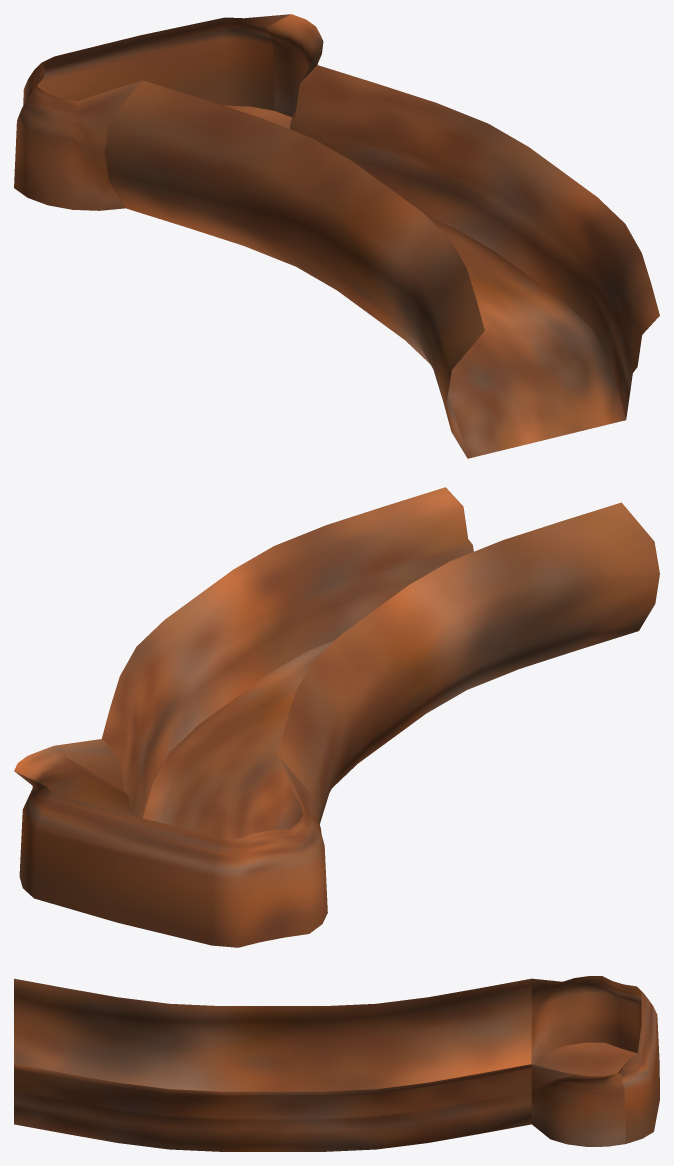
File: map.obj
The picture shows the model from 3 angles, top to bottom: view 1: azimuth 30°, elevation 25°; view 2: azimuth 150°, elevation 25°; view 3: azimuth 270°, elevation 25°; orthographic projection. The views are drawn at different scales.
Parts seen in each view (by area): view 1: pPlane1, pSphere1; view 2: pPlane1, pSphere1; view 3: pPlane1, pSphere1, pCylinder1.
Part boxes in pixels (x1,y1,x2,y2): pPlane1: (104,65,659,458); pSphere1: (14,14,323,210); pPlane1: (101,487,659,838); pSphere1: (14,739,327,947); pPlane1: (14,978,531,1151); pSphere1: (531,976,659,1146); pCylinder1: (533,1042,637,1075).
Size of the model in its own units: 12.29 by 4.41 by 27.58.
1 material, 1 textured.
